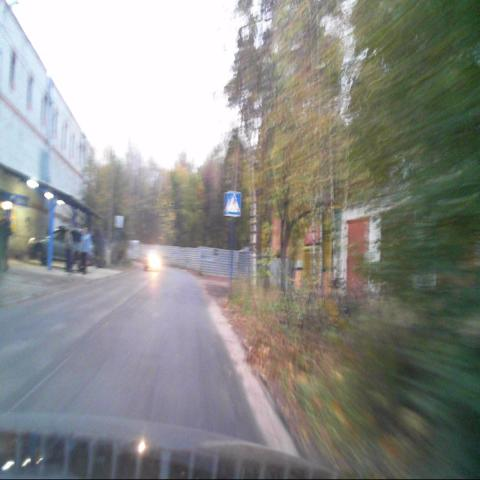5_19_1: (227, 191, 241, 217)
